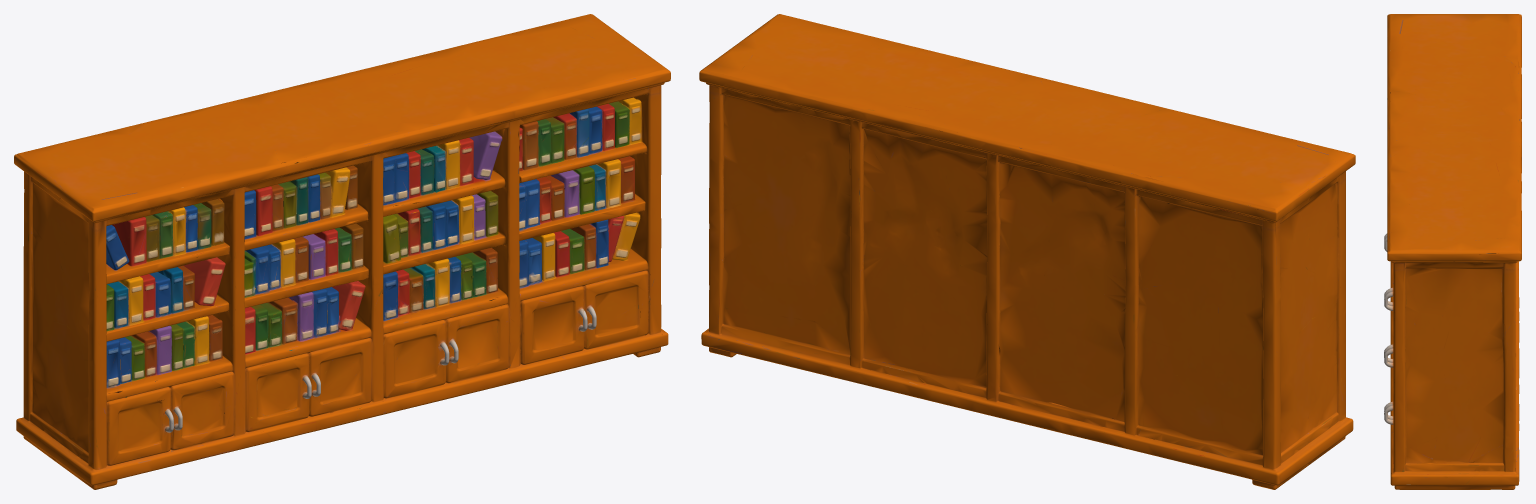
The model's file is Meshy_AI_Colorful_Library_Bookshelf_20261108_texture(1).fbx.
The picture shows the model from 3 angles, left to right: view 1: azimuth 30°, elevation 25°; view 2: azimuth 150°, elevation 25°; view 3: azimuth 270°, elevation 25°; orthographic projection. The views are drawn at different scales.
Visible parts, largest first — view 1: geometry_0; view 2: geometry_0; view 3: geometry_0.
Part boxes in pixels (bbox=[...]): geometry_0: bbox=[14, 14, 670, 489]; geometry_0: bbox=[699, 14, 1355, 489]; geometry_0: bbox=[1384, 14, 1521, 489].
Bounding box in the file's own units: 190 × 89.5 × 46.31.
Materials: 1 (1 with a texture image).
